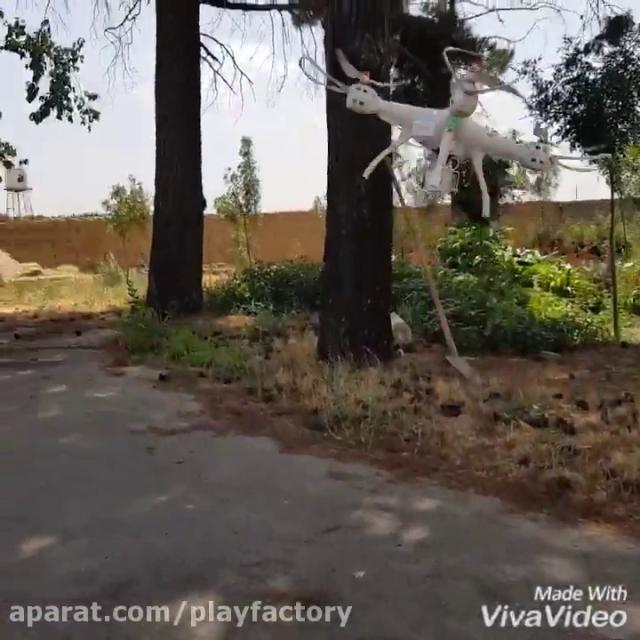drone: (295, 42, 610, 218)
